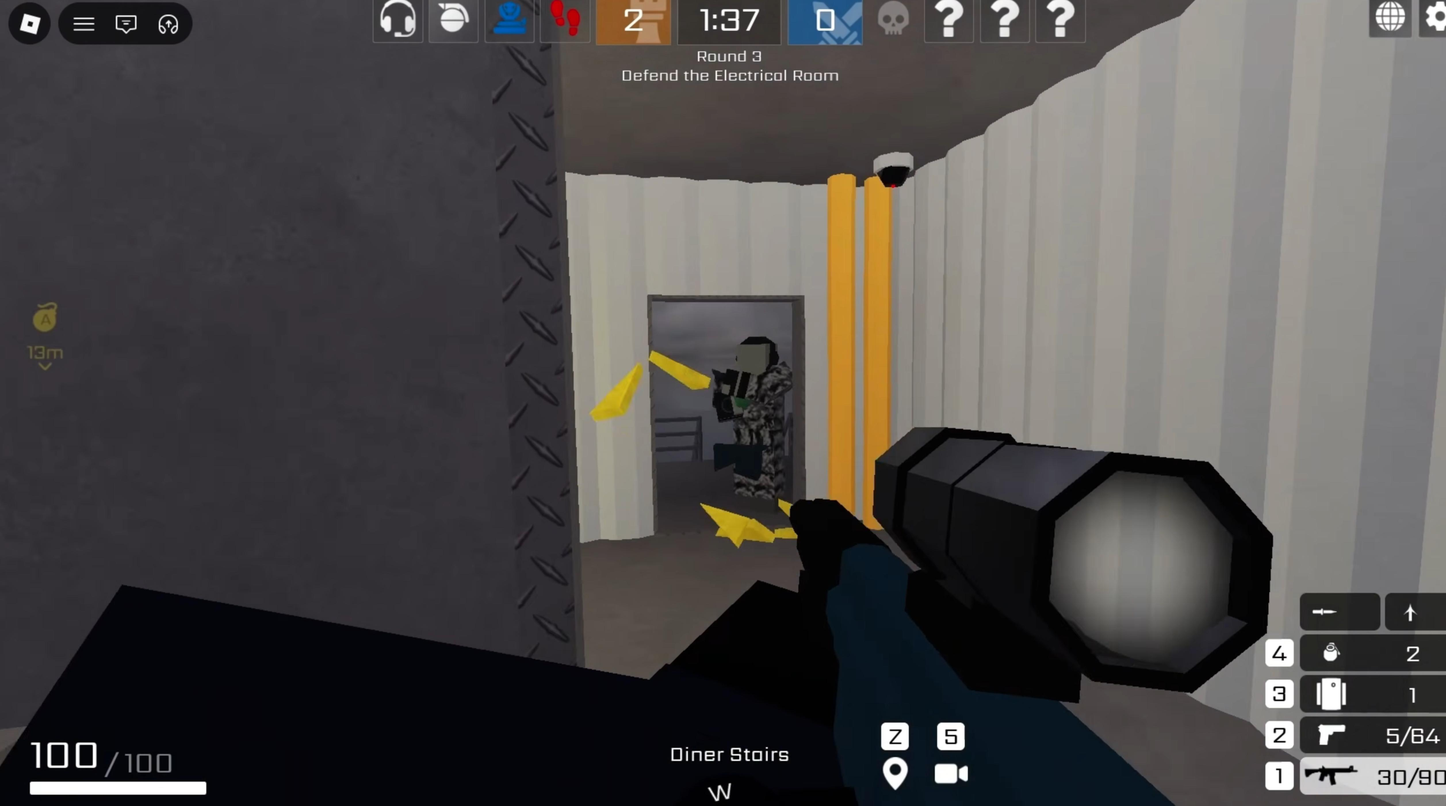enemy: (695, 329, 804, 523)
